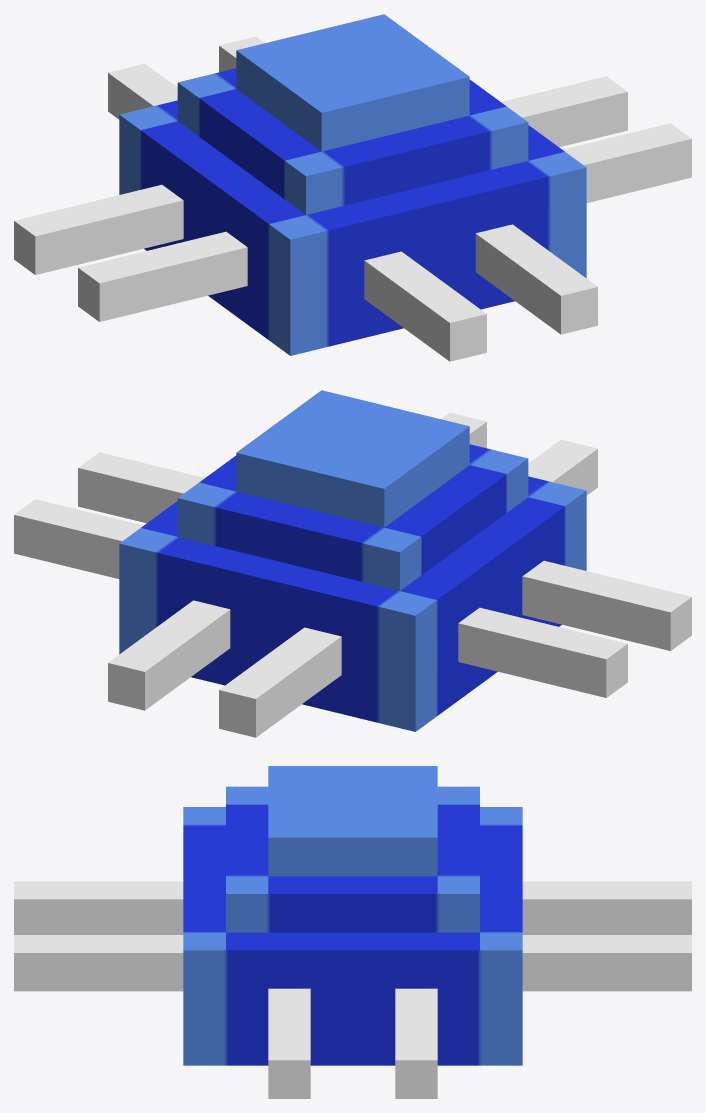
File: SpikeTrap.obj
The picture shows the model from 3 angles, top to bottom: view 1: azimuth 30°, elevation 25°; view 2: azimuth 150°, elevation 25°; view 3: azimuth 270°, elevation 25°; orthographic projection.
Visible parts, largest first — view 1: Matrix; view 2: Matrix; view 3: Matrix.
Boxes of the visible parts, <box> form: Matrix: <box>14,14,691,361</box>; Matrix: <box>14,390,691,737</box>; Matrix: <box>14,766,691,1098</box>.
Bounding box in the file's own units: 1.6 × 0.5 × 1.6.
Materials: 1 (1 with a texture image).
